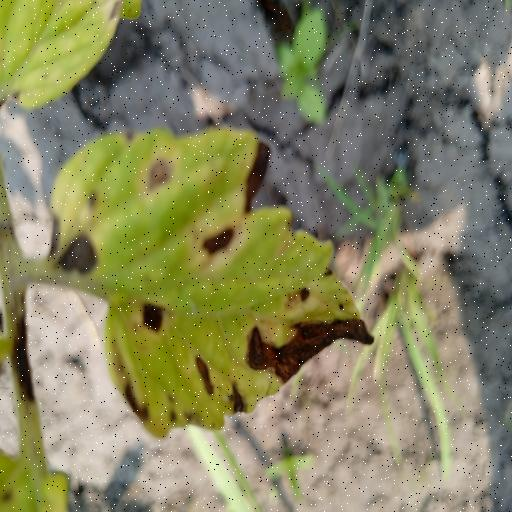Tomato_Brown_Spots: (47, 115, 384, 439)
